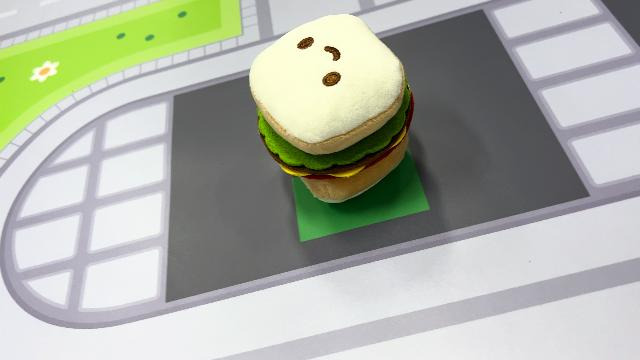sandwich: (247, 12, 418, 204)
